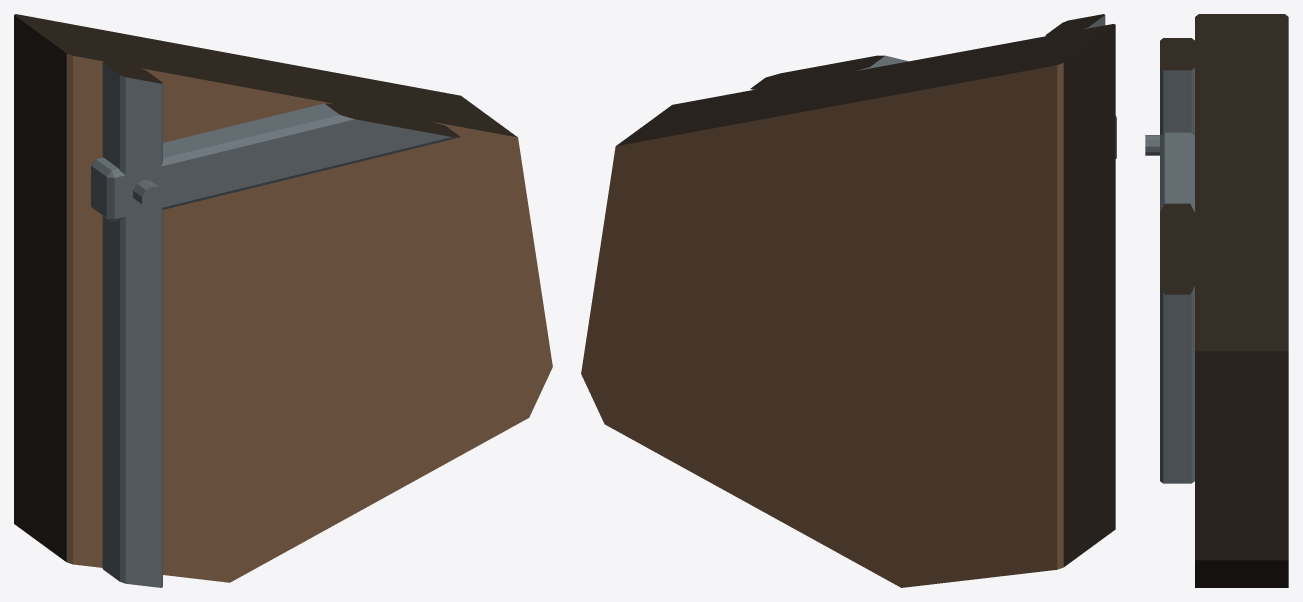
File: SM_DoorShard_03_56.fbx
3 views of the same model, side by side, from view 1: azimuth 30°, elevation 25°; view 2: azimuth 150°, elevation 25°; view 3: azimuth 270°, elevation 25° (orthographic). The views are drawn at different scales.
Visible parts, largest first — view 1: SM_DoorShard_03_56; view 2: SM_DoorShard_03_56; view 3: SM_DoorShard_03_56.
Boxes of the visible parts, box(x1,y1,x2,y2) form: SM_DoorShard_03_56: box(14, 14, 552, 587); SM_DoorShard_03_56: box(581, 14, 1116, 587); SM_DoorShard_03_56: box(1145, 14, 1288, 587).
Bounding box in the file's own units: 78.37 × 24.5 × 87.72.
